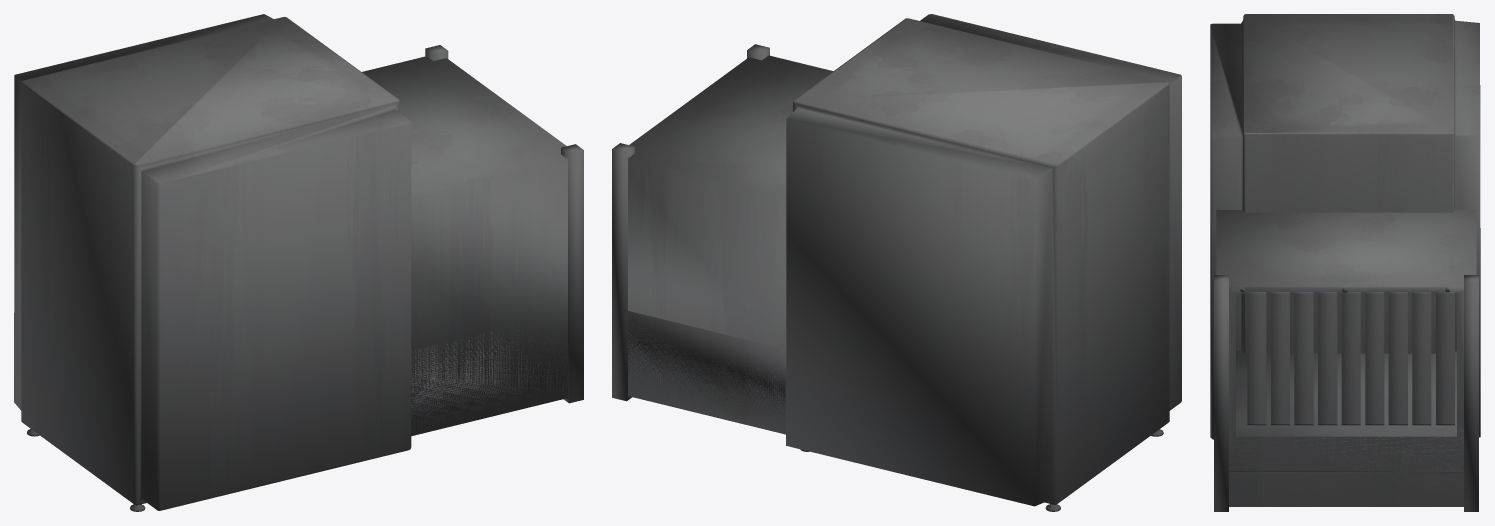
Rendered from machP_1.fbx.
3 renders of one model, left to right at view 1: azimuth 30°, elevation 25°; view 2: azimuth 150°, elevation 25°; view 3: azimuth 270°, elevation 25°, orthographic. The views are drawn at different scales.
Parts seen in each view (by area): view 1: Cube.003; view 2: Cube.003; view 3: Cube.003.
Part boxes in pixels (bbox=[...]): Cube.003: bbox=[14, 14, 583, 511]; Cube.003: bbox=[612, 14, 1181, 511]; Cube.003: bbox=[1210, 14, 1480, 511].
Size of the model in its own units: 983 by 760 by 577.
